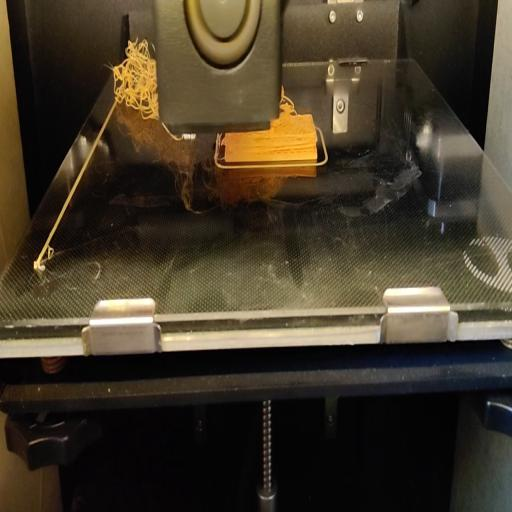spaghetti: (105, 38, 158, 123)
